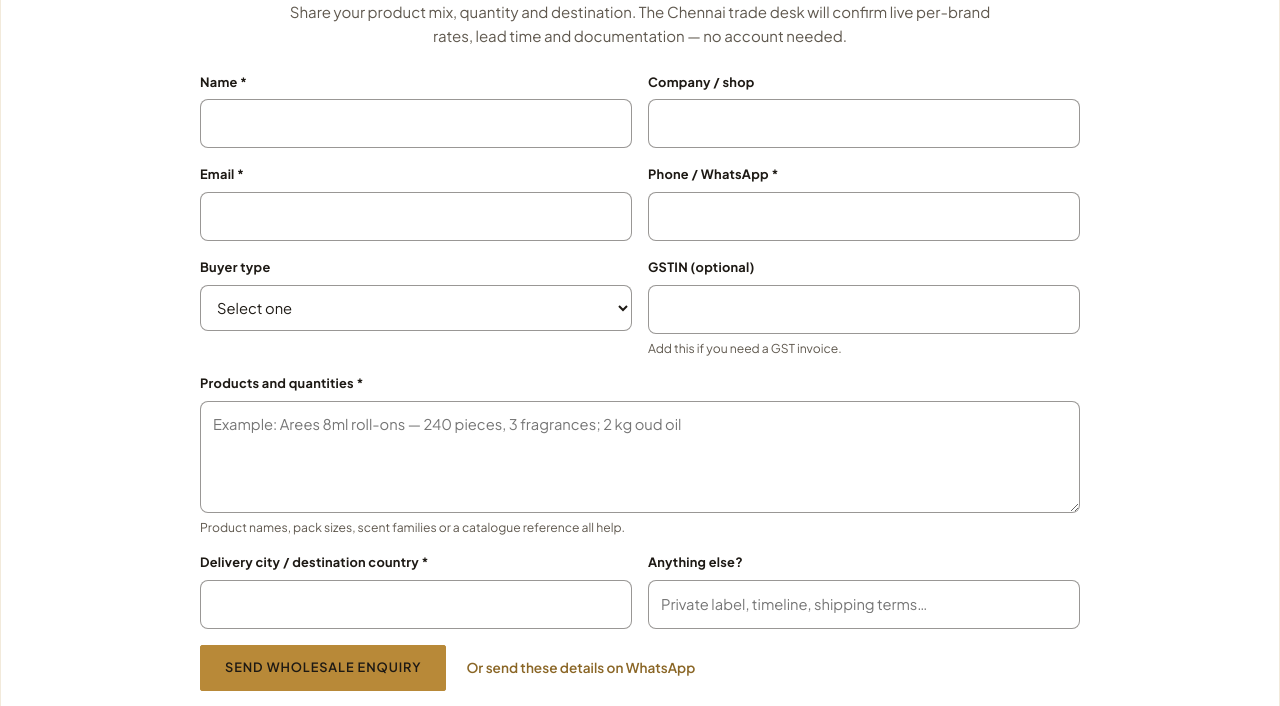
WholesaleEnquiryForm › blocks submission, shows field errors and focuses the first invalid field
The width and height of the screenshot is (1280, 706).
(page scrolled)
Click the button "Send wholesale enquiry": (323, 668) top-left (200, 645), bottom-right (446, 691)
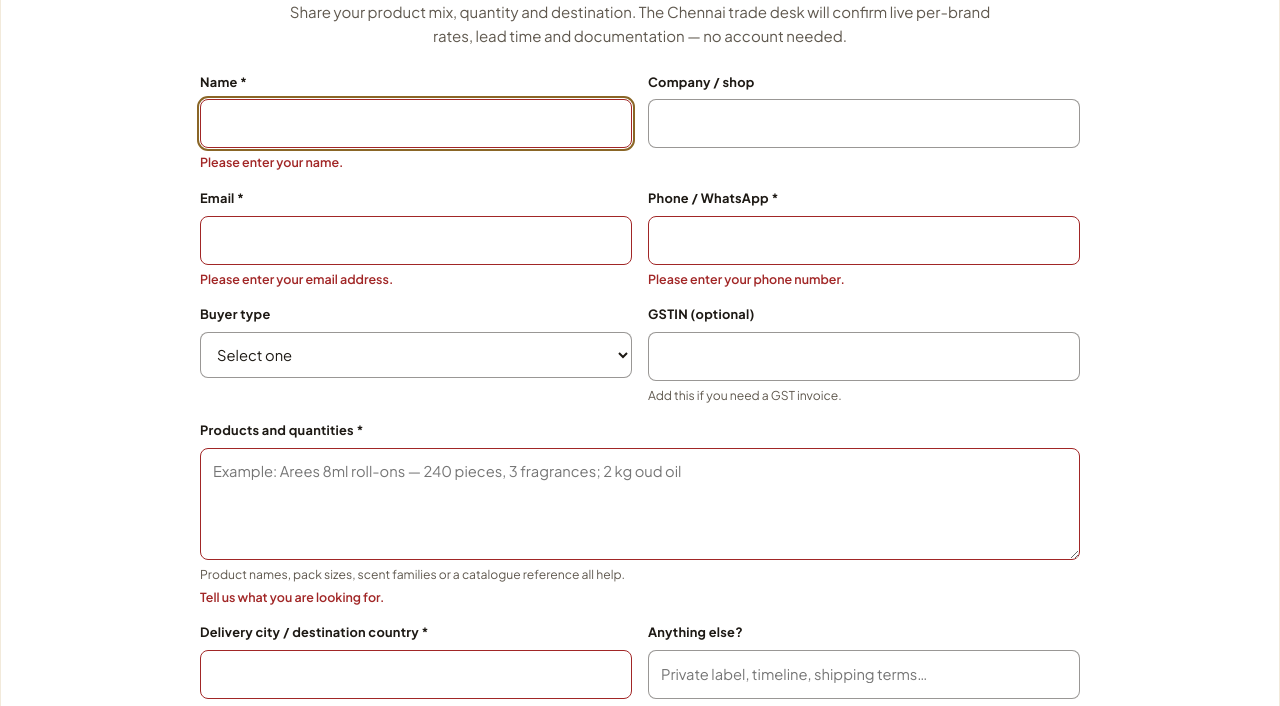
Expected: the text "Please enter your name." is shown, top-left (200, 154), bottom-right (343, 170)
Expected: the text "Please enter your email address." is shown, top-left (200, 271), bottom-right (393, 287)
Expected: the text "Please enter your phone number." is shown, top-left (648, 271), bottom-right (845, 287)
